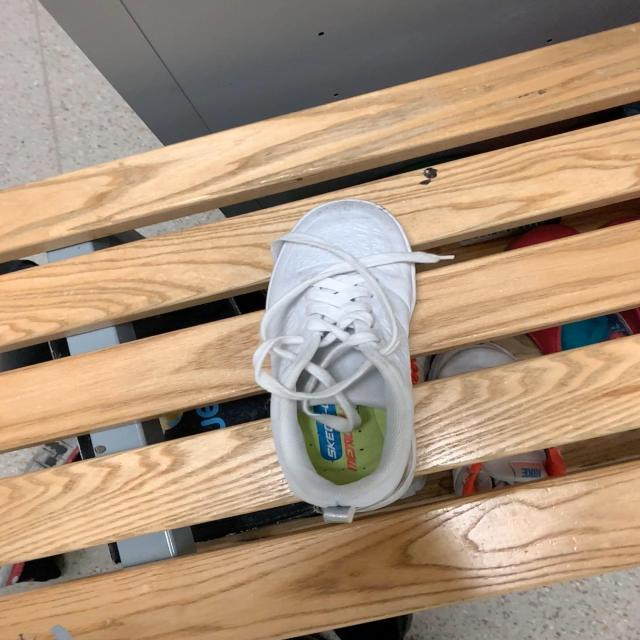shoe: (252, 200, 453, 525)
